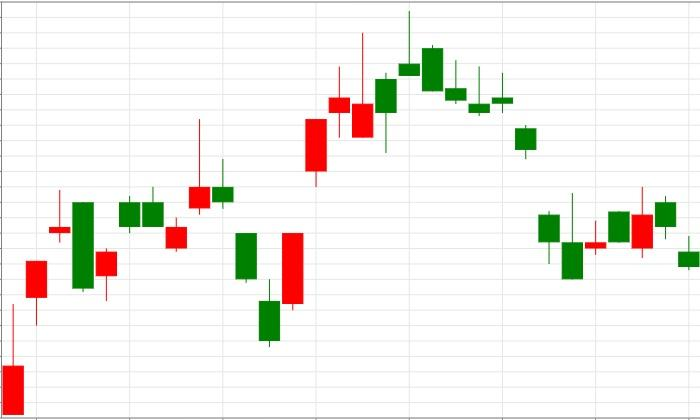shooting_star_fall: (258, 32, 374, 347)
three_black_crows_fall: (165, 118, 281, 347)
